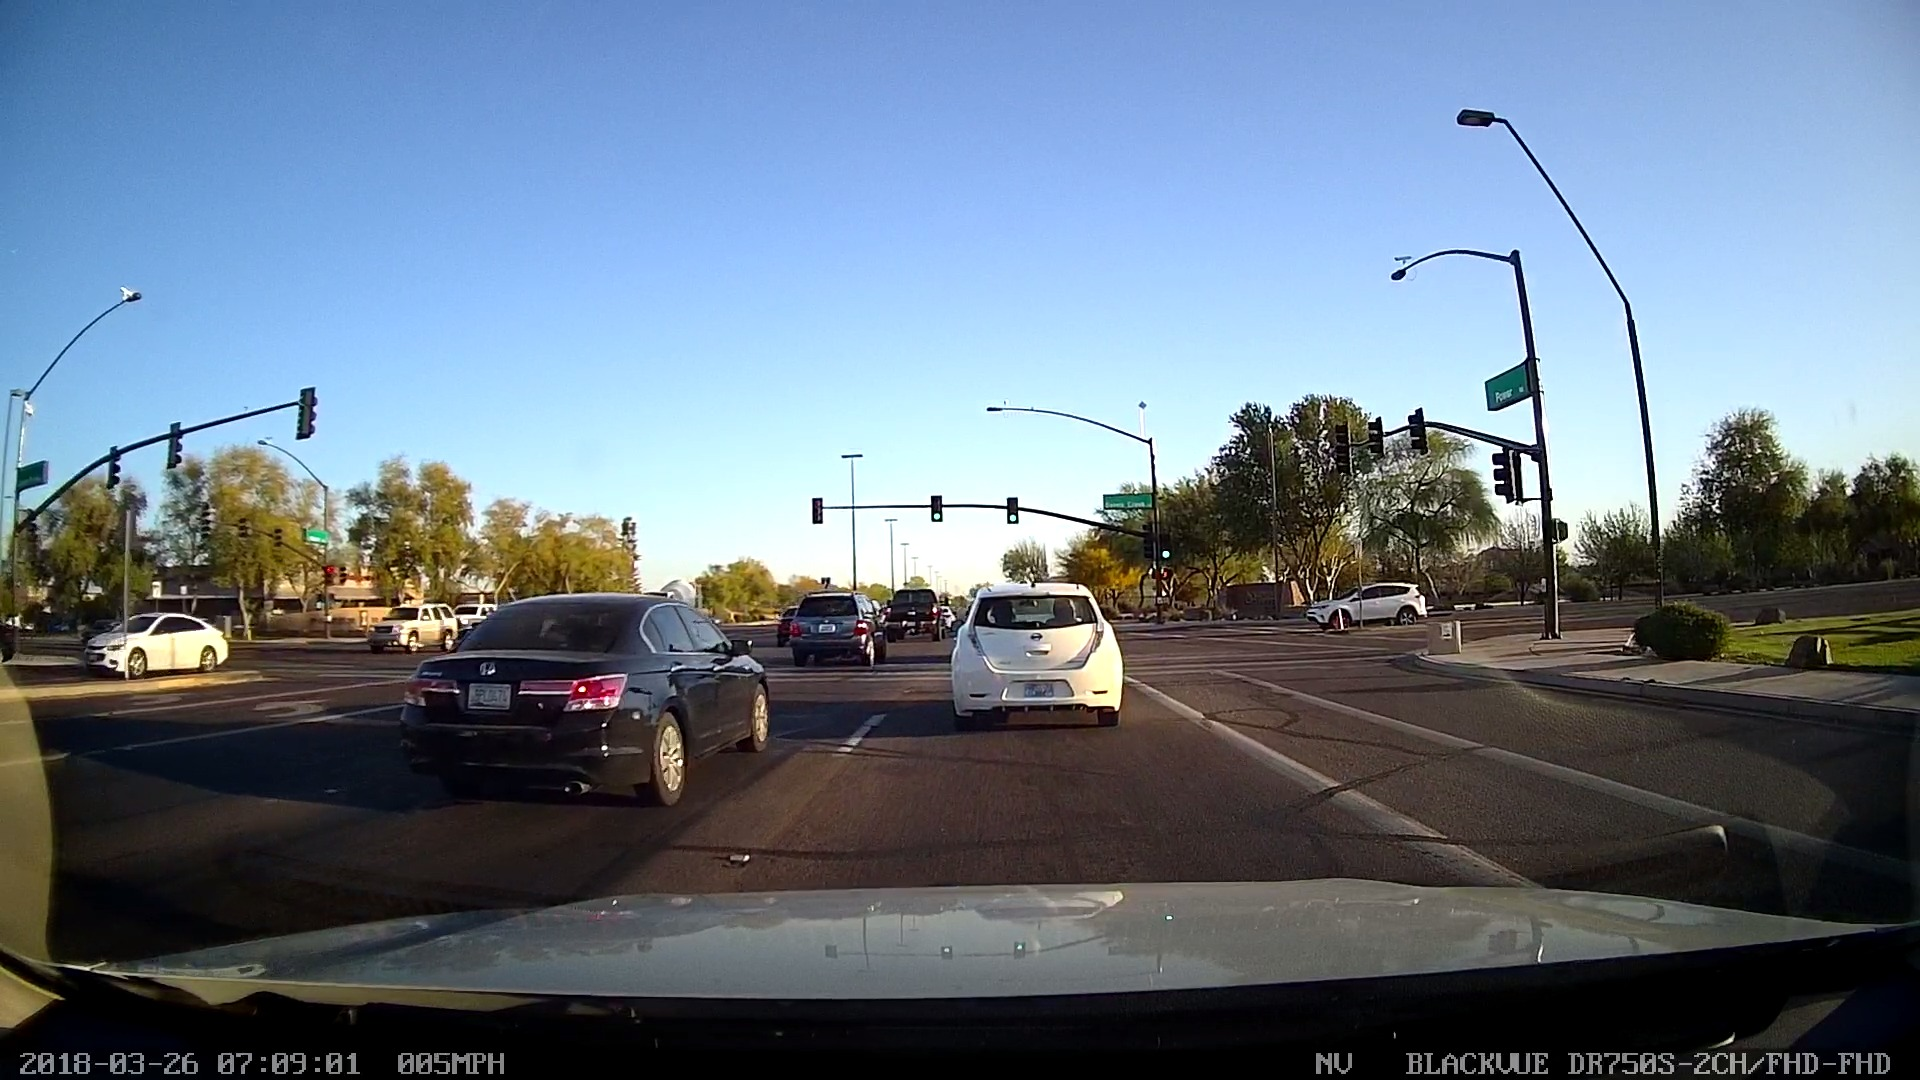vehicle: (382, 575, 790, 840), (939, 574, 1135, 746), (76, 588, 240, 688), (777, 578, 902, 688), (1296, 560, 1441, 651), (857, 564, 948, 659), (349, 588, 463, 658), (447, 665, 522, 725), (1011, 676, 1062, 711)
